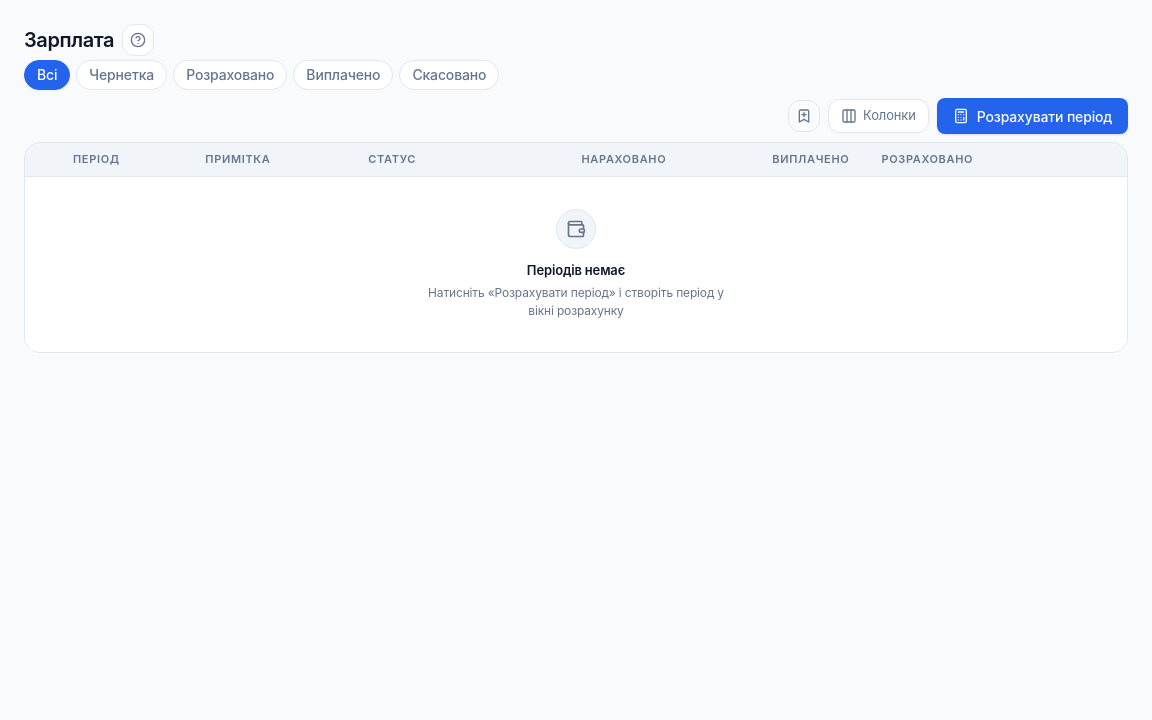
Test: Payroll — сторінка на весь екран: статуси над фільтрами, розрахунок у вікні › колонка «Схема» вікна розрахунку — ті самі умови, що й у відомості; без умов — назва схеми
Click the button "Розрахувати період": (1032, 116) 937,98 -> 1128,134
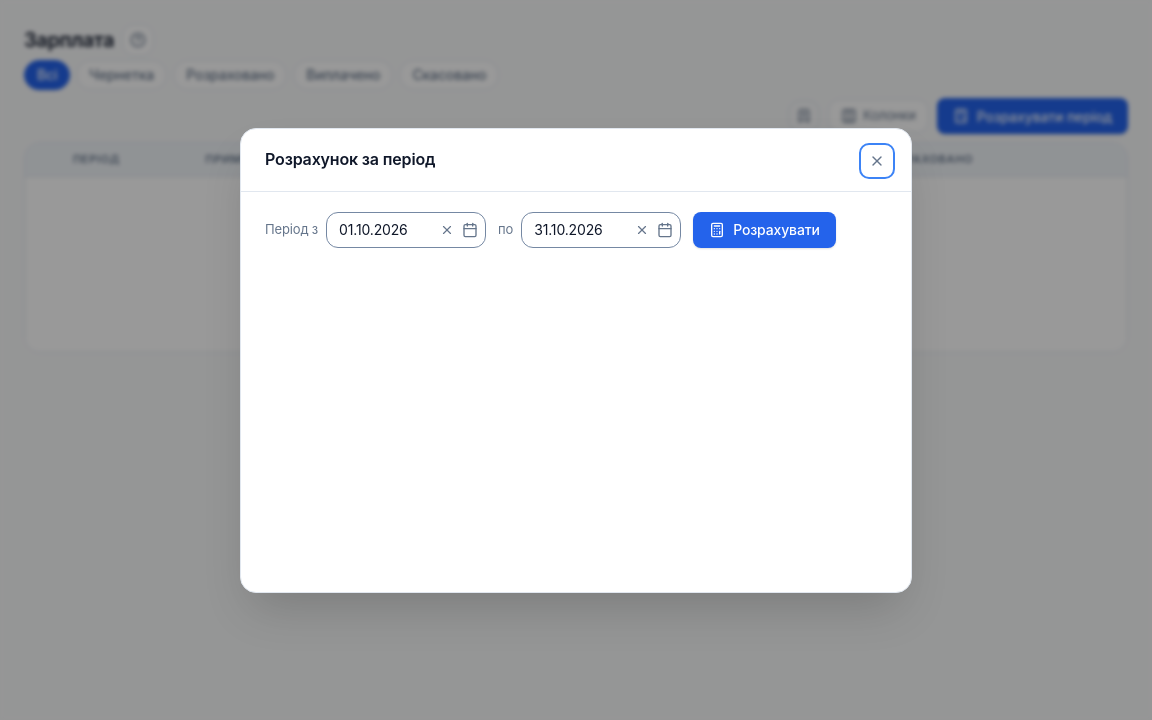
Click the button "Розрахувати": (764, 230) 693,212 -> 836,248
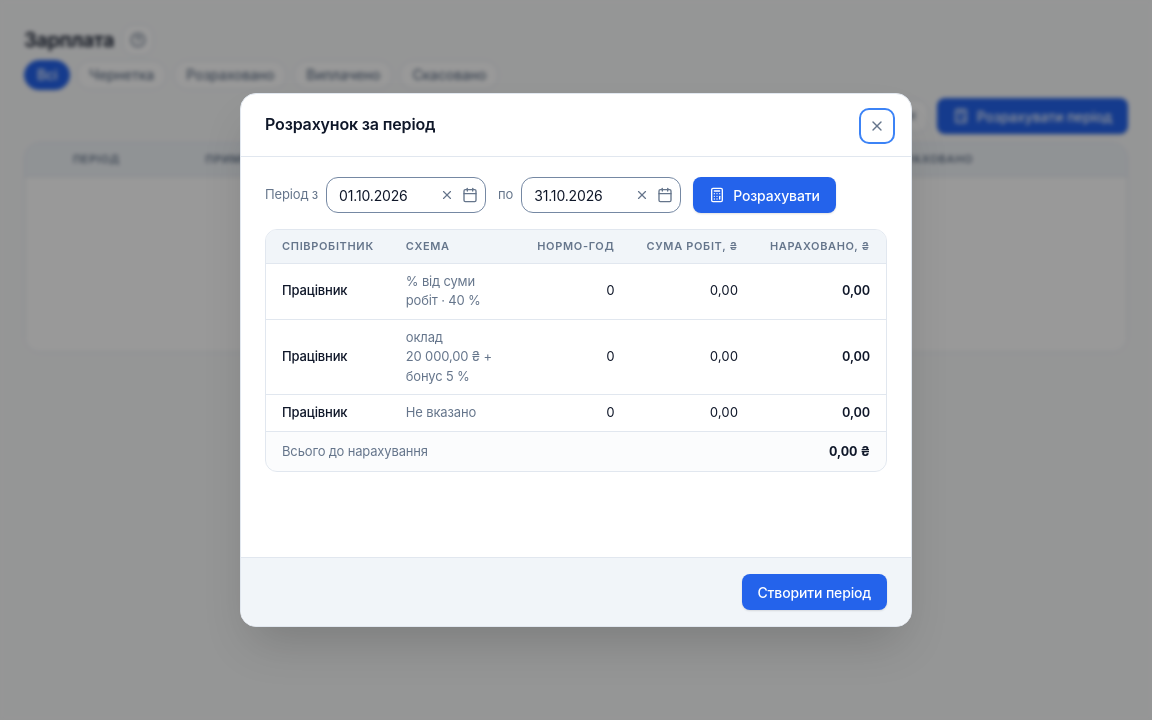
Expected: the text "% від суми робіт · 40 %" is shown, 406,272 -> 481,308
Expected: the text "оклад 20 000,00 ₴ + бонус 5 %" is shown, 406,328 -> 492,384
Expected: the text "Не вказано" is shown, 406,404 -> 476,420
